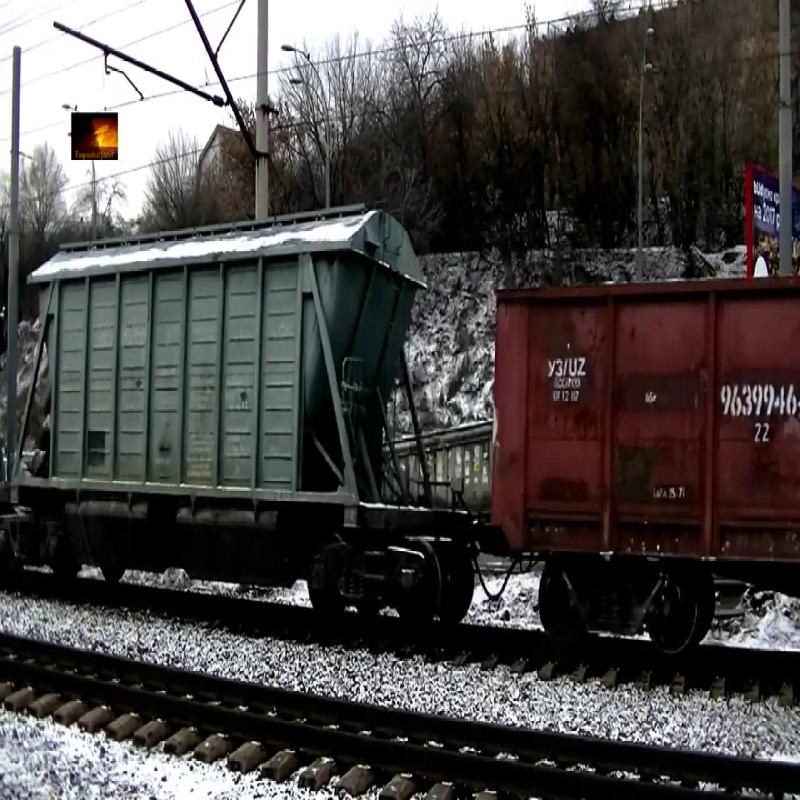train: (13, 200, 436, 538), (488, 267, 800, 579)
